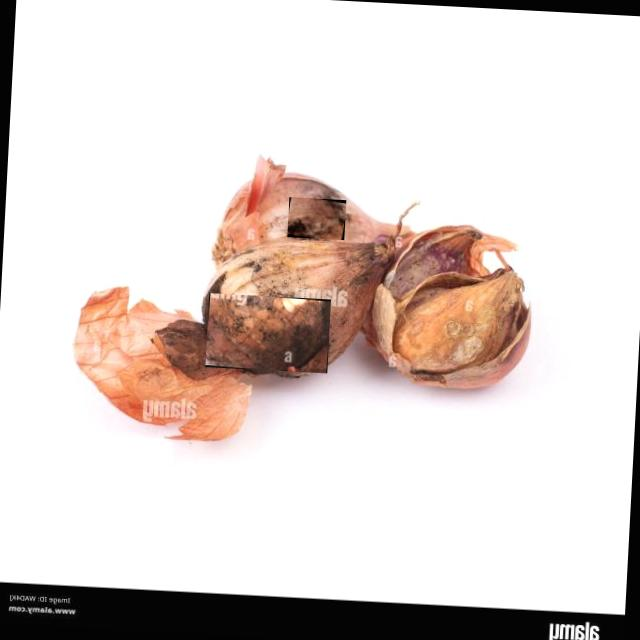rotten: (205, 294, 331, 374), (288, 197, 346, 240)
